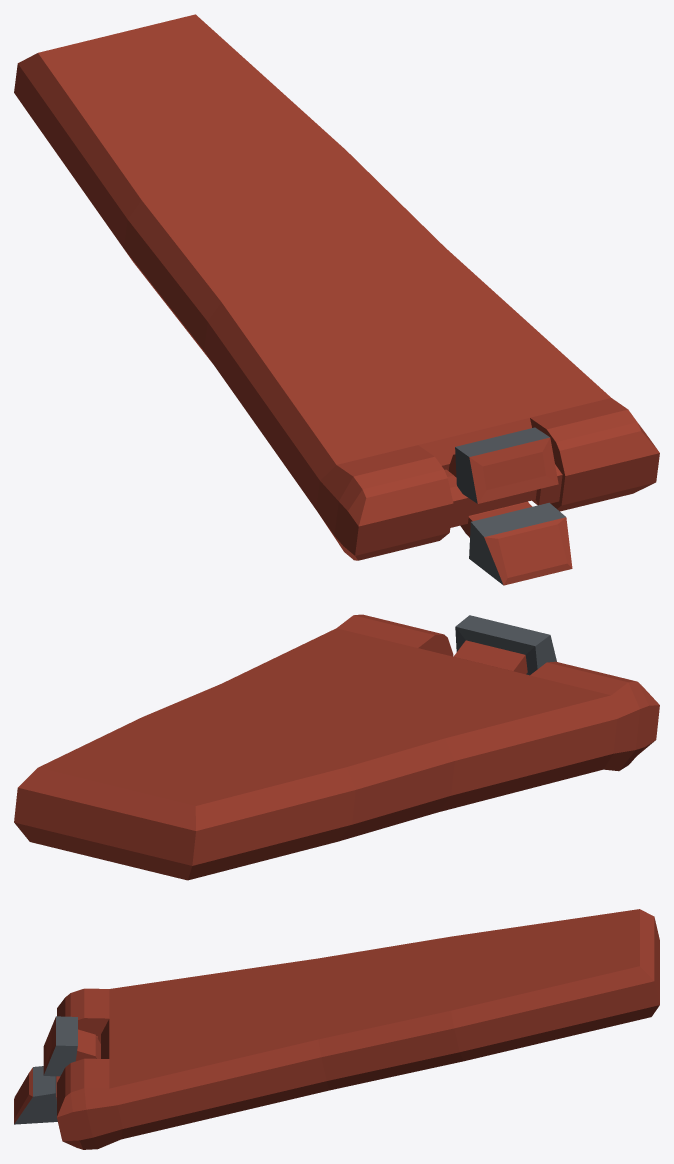
File: Fighter_04_Flap_Left_Red.fbx
3 renders of one model, top to bottom at view 1: azimuth 30°, elevation 25°; view 2: azimuth 150°, elevation 25°; view 3: azimuth 270°, elevation 25°, orthographic. The views are drawn at different scales.
Parts seen in each view (by area): view 1: Fighter_04_Flap_Left_Red; view 2: Fighter_04_Flap_Left_Red; view 3: Fighter_04_Flap_Left_Red.
Boxes of the visible parts, bbox=[...] form: Fighter_04_Flap_Left_Red: bbox=[14, 14, 659, 585]; Fighter_04_Flap_Left_Red: bbox=[14, 614, 659, 880]; Fighter_04_Flap_Left_Red: bbox=[14, 909, 659, 1149].
Size of the model in its own units: 116 by 86.18 by 289.
Materials: 1 (1 with a texture image).
